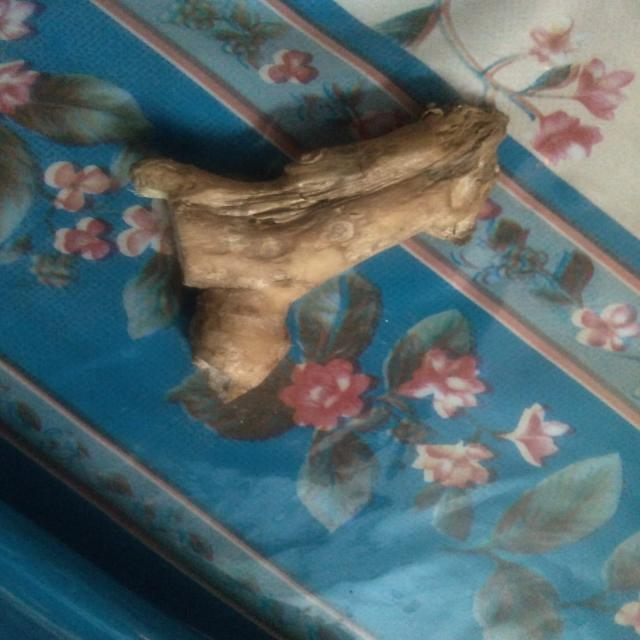ginger: (184, 104, 502, 298)
